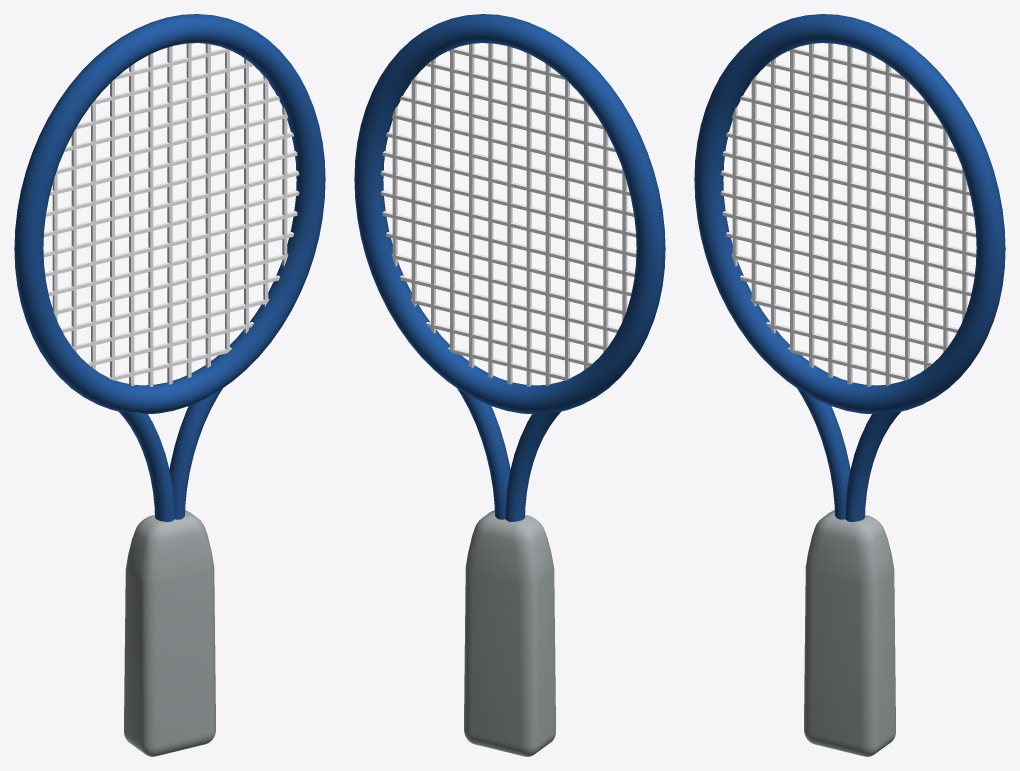
File: racket.glb
3 renders of one model, left to right at view 1: azimuth 30°, elevation 25°; view 2: azimuth 150°, elevation 25°; view 3: azimuth 330°, elevation 25°, orthographic.
Parts seen in each view (by area): view 1: Cartoon_Tennis_Racket; view 2: Cartoon_Tennis_Racket; view 3: Cartoon_Tennis_Racket.
Part boxes in pixels (left/top/right/bottom): Cartoon_Tennis_Racket: left=14, top=14, right=325, bottom=756; Cartoon_Tennis_Racket: left=354, top=14, right=665, bottom=756; Cartoon_Tennis_Racket: left=694, top=14, right=1005, bottom=756.
Size of the model in its own units: 0.6409 by 1.45 by 0.0986.
